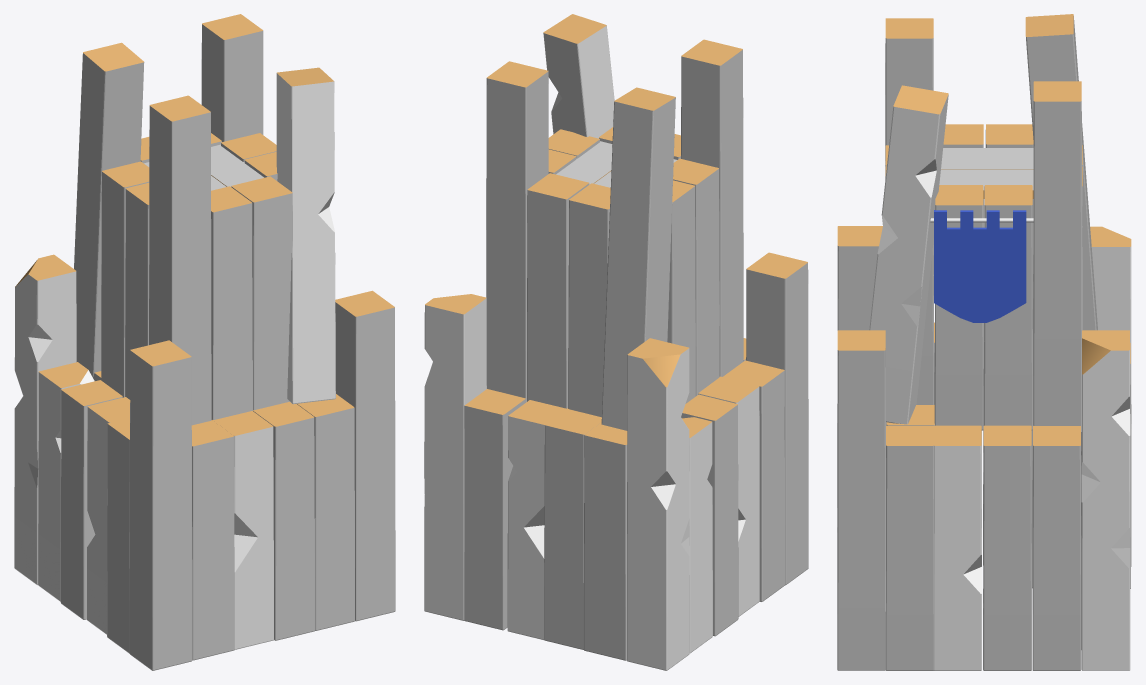
Rendered from TowerSemi.glb.
3 renders of one model, left to right at view 1: azimuth 30°, elevation 25°; view 2: azimuth 150°, elevation 25°; view 3: azimuth 270°, elevation 25°, orthographic. The views are drawn at different scales.
Parts seen in each view (by area): view 1: wood_wall.001; view 2: wood_wall.001; view 3: wood_wall.001, Flag.002.
Boxes of the visible parts, left/top/right/bottom form: wood_wall.001: left=14, top=14, right=395, bottom=670; wood_wall.001: left=424, top=14, right=808, bottom=670; wood_wall.001: left=837, top=14, right=1131, bottom=670; Flag.002: left=930, top=210, right=1033, bottom=322.
Bounding box in the file's own units: 2.13 × 4.4 × 2.12.
